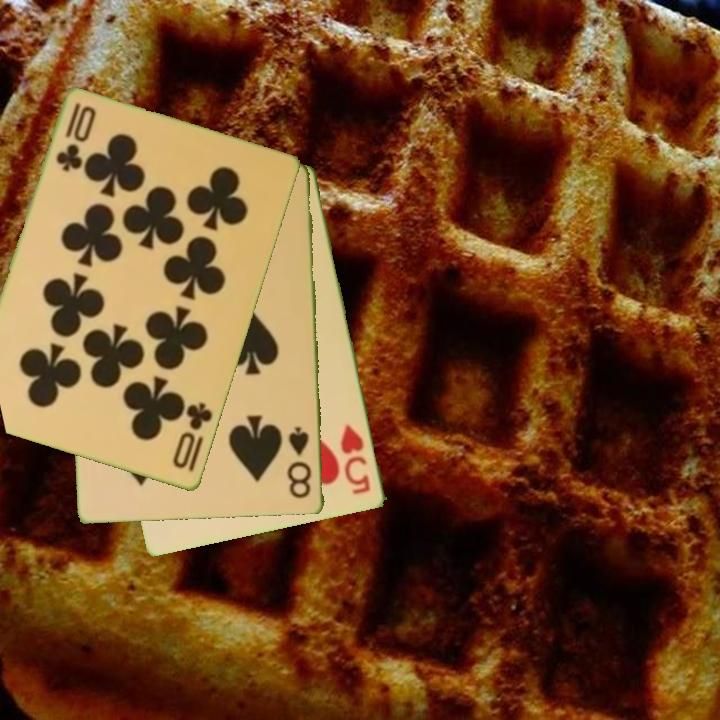10c: (169, 399, 216, 475), (52, 100, 98, 176)
5h: (337, 421, 374, 498)
8s: (285, 423, 315, 501)
